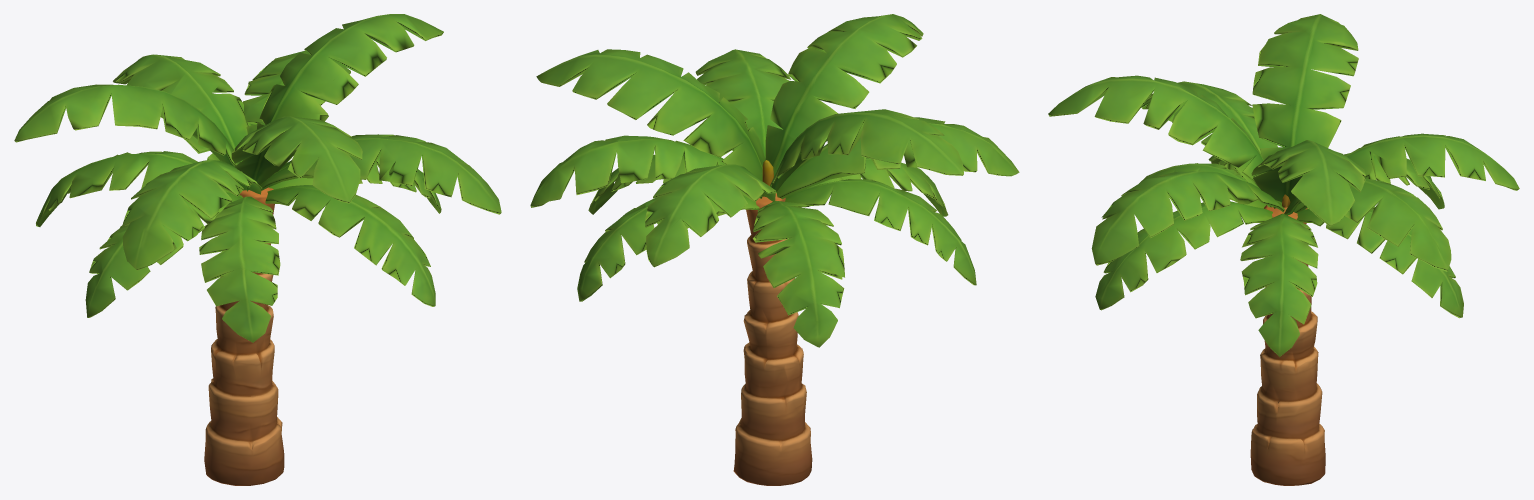
File: palm.glb
3 renders of one model, left to right at view 1: azimuth 30°, elevation 25°; view 2: azimuth 150°, elevation 25°; view 3: azimuth 270°, elevation 25°, orthographic. The views are drawn at different scales.
Visible parts, largest first — view 1: geometry_0; view 2: geometry_0; view 3: geometry_0.
Part boxes in pixels (x1,y1,x2,y2): geometry_0: (14,14,501,485); geometry_0: (530,14,1019,485); geometry_0: (1048,14,1519,485).
Size of the model in its own units: 0.9575 by 0.8555 by 0.9497.
1 material, 1 textured.
